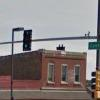Traffic light: (14, 23, 36, 58)
